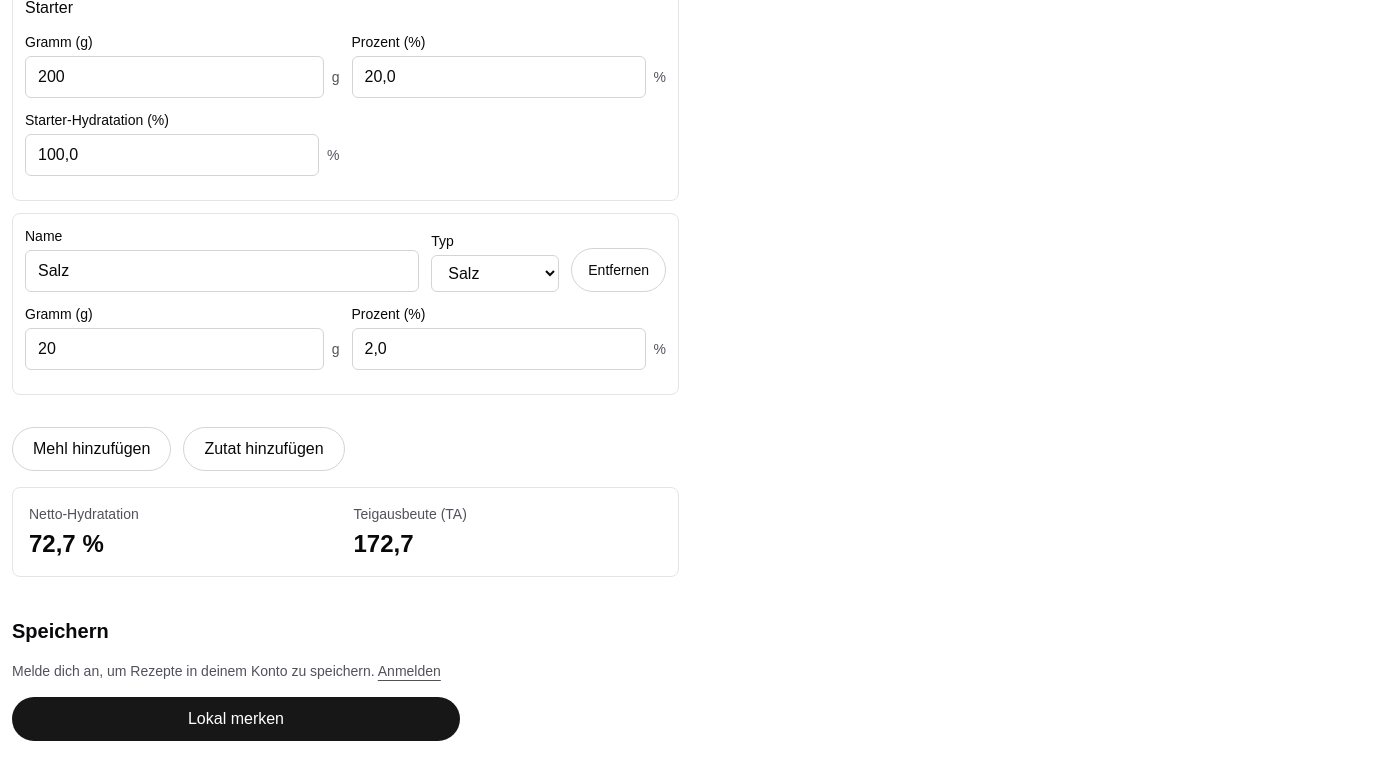
Test: F010 Speichern: Rückmeldungen › F010/AC-10 „Auf diesem Gerät gemerkt.“ verschwindet nach einer Änderung und erscheint beim erneuten Merken wieder
(page scrolled)
Click the button "Lokal merken": (236, 719) [12, 697, 460, 741]
(page scrolled)
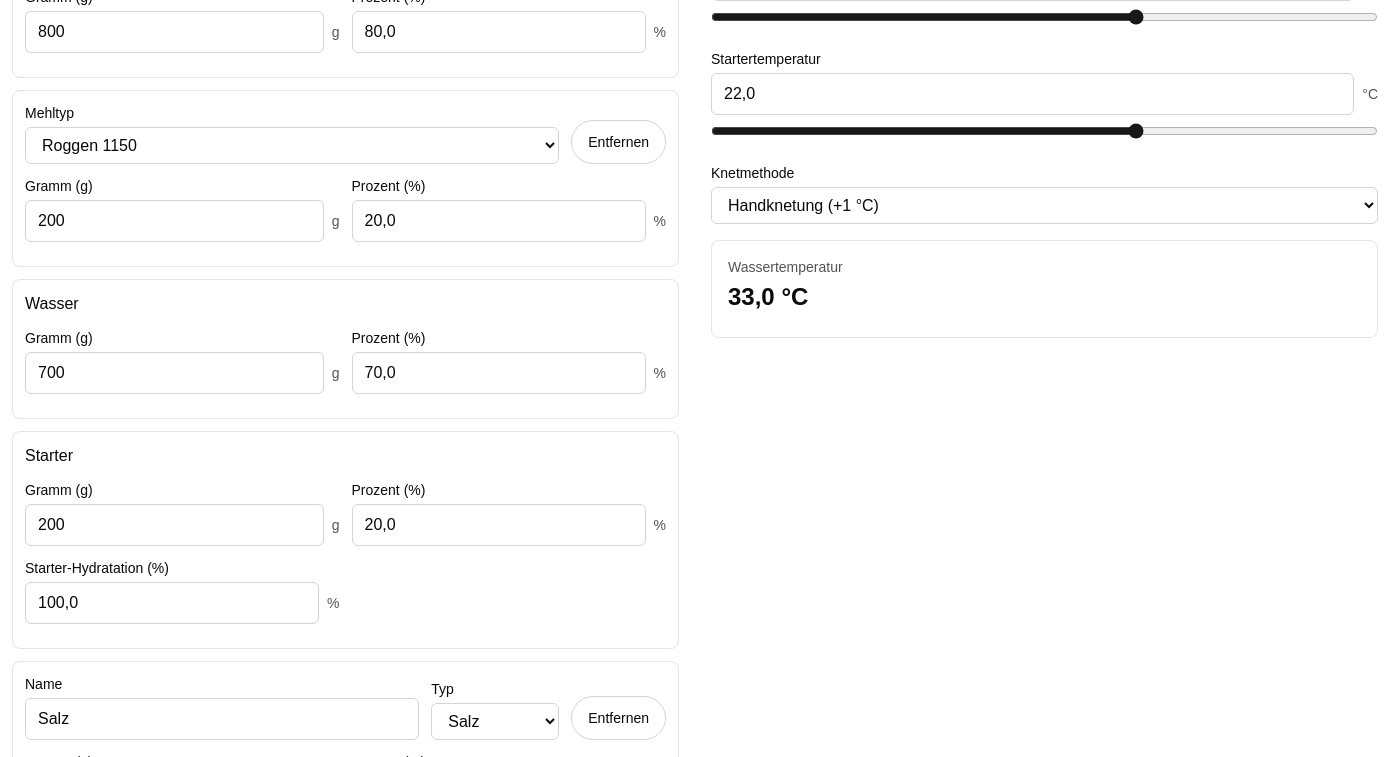
Replace the text in the 3rd field labelled "Gramm (g)" with "750": (174, 373) [25, 352, 324, 394]
(page scrolled)
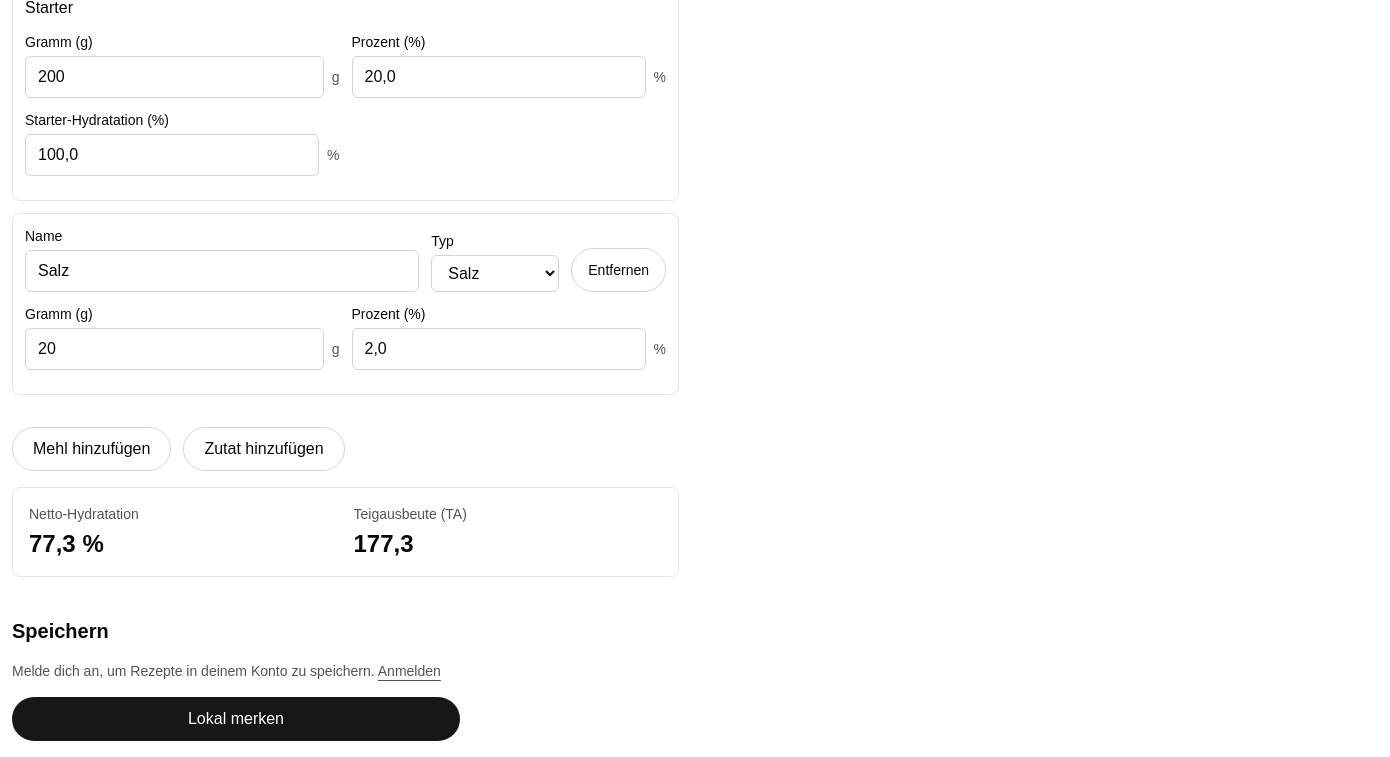
Expected: the text "Auf diesem Gerät gemerkt." is not shown
Click the button "Lokal merken": (236, 719) [12, 697, 460, 741]
(page scrolled)
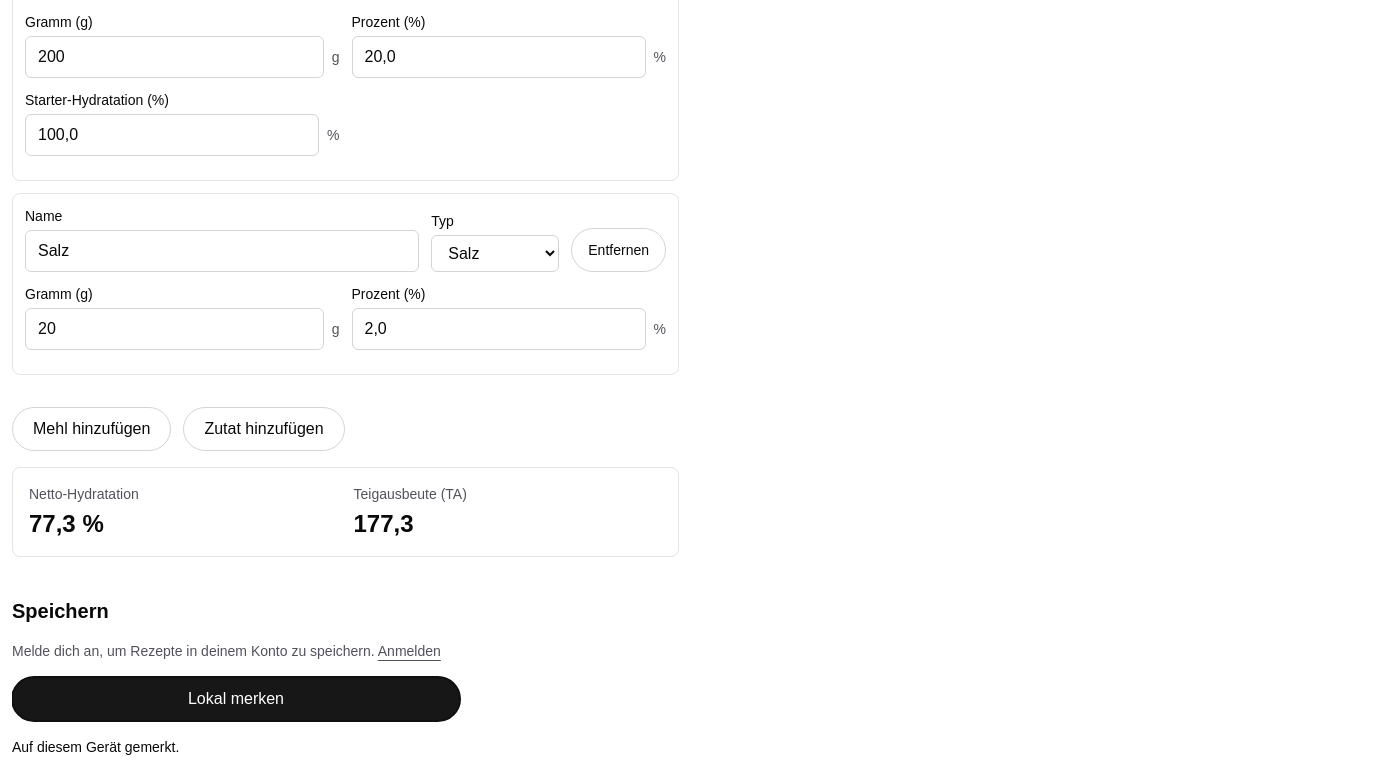
Result: the text "Auf diesem Gerät gemerkt." is shown at [12, 739, 179, 755]
